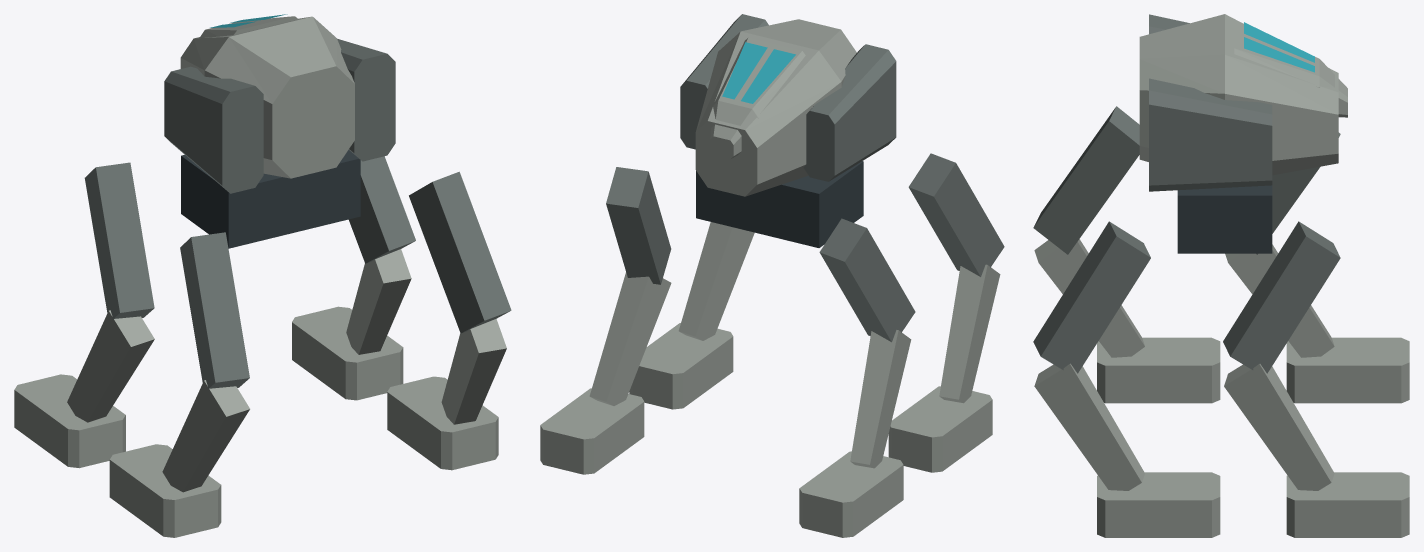
The model's file is fallback-quad-light.glb.
3 renders of one model, left to right at view 1: azimuth 30°, elevation 25°; view 2: azimuth 150°, elevation 25°; view 3: azimuth 270°, elevation 25°, orthographic. The views are drawn at different scales.
Visible parts, largest first — view 1: LT, pelvis, RRL, CT, FLL, RLL, RT, RLL-foot, RRL-foot, FRL-foot, FLL-foot, FLL-shin (+5 smaller); view 2: LT, pelvis, FLL-foot, FRL-foot, RLL-foot, FLL, RLL, RRL-foot, HD, FRL-shin, FRL, RLL-shin (+4 smaller); view 3: RT, RRL, FRL, RLL-foot, FLL-foot, FRL-foot, RRL-foot, RLL, RRL-shin, FRL-shin, pelvis, HD (+5 smaller).
Boxes of the visible parts, x1,y1,x2,y2 form: LT: [164, 33, 288, 193]; pelvis: [181, 149, 360, 248]; RRL: [409, 171, 511, 333]; CT: [189, 20, 338, 178]; FLL: [84, 162, 154, 318]; RLL: [180, 232, 249, 388]; RT: [293, 16, 395, 163]; RLL-foot: [109, 444, 221, 537]; RRL-foot: [387, 376, 498, 470]; FRL-foot: [292, 306, 403, 400]; FLL-foot: [14, 374, 125, 468]; FLL-shin: [67, 310, 154, 422]; LT: [749, 32, 896, 191]; pelvis: [696, 161, 863, 247]; FLL-foot: [799, 451, 903, 537]; FRL-foot: [540, 388, 644, 474]; RLL-foot: [888, 386, 992, 472]; FLL: [819, 218, 915, 342]; RLL: [908, 153, 1004, 276]; RRL-foot: [629, 323, 733, 409]; HD: [710, 37, 805, 159]; FRL-shin: [589, 272, 671, 405]; FRL: [606, 167, 671, 284]; RLL-shin: [939, 264, 1000, 403]; RT: [1139, 46, 1338, 191]; RRL: [1033, 221, 1150, 373]; FRL: [1223, 221, 1340, 373]; RLL-foot: [1097, 337, 1220, 403]; FLL-foot: [1286, 337, 1409, 403]; FRL-foot: [1286, 472, 1409, 537]; RRL-foot: [1097, 472, 1220, 537]; RLL: [1033, 106, 1139, 254]; RRL-shin: [1034, 363, 1144, 490]; FRL-shin: [1224, 363, 1334, 490]; pelvis: [1177, 185, 1272, 253]; HD: [1234, 20, 1347, 117].
Size of the model in its own units: 38.57 by 46.72 by 37.74.
